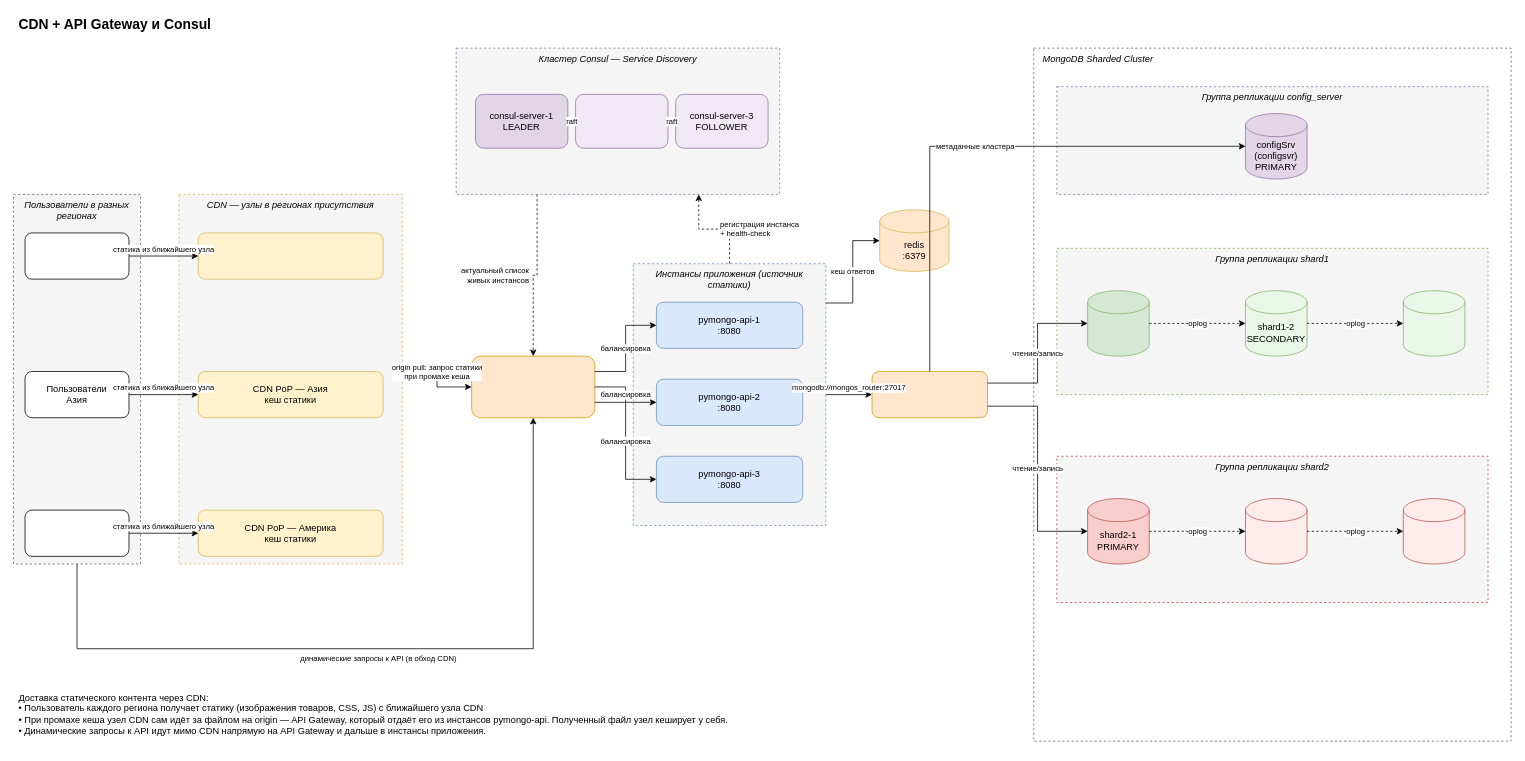
The diagram is 1525 pixels wide and 761 high, and some of its shapes have lost their labels. The centre of each missing label's shape, as x and y in pixels:
API Gateway (origin, балансировка) :80: (x=533, y=386)
CDN PoP — Европа кеш статики: (x=290, y=255)
consul-server-2 FOLLOWER: (x=621, y=121)
mongos_router :27017: (x=929, y=394)
shard1-1 PRIMARY: (x=1118, y=323)
shard1-3 SECONDARY: (x=1434, y=323)
shard2-2 SECONDARY: (x=1276, y=531)
shard2-3 SECONDARY: (x=1434, y=531)
Пользователи Америка: (x=76, y=532)
Пользователи Европа: (x=76, y=255)
